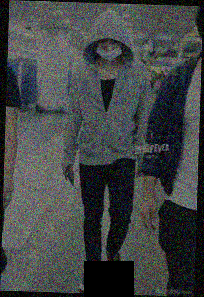mask_weared_incorrect: (95, 37, 123, 62)
